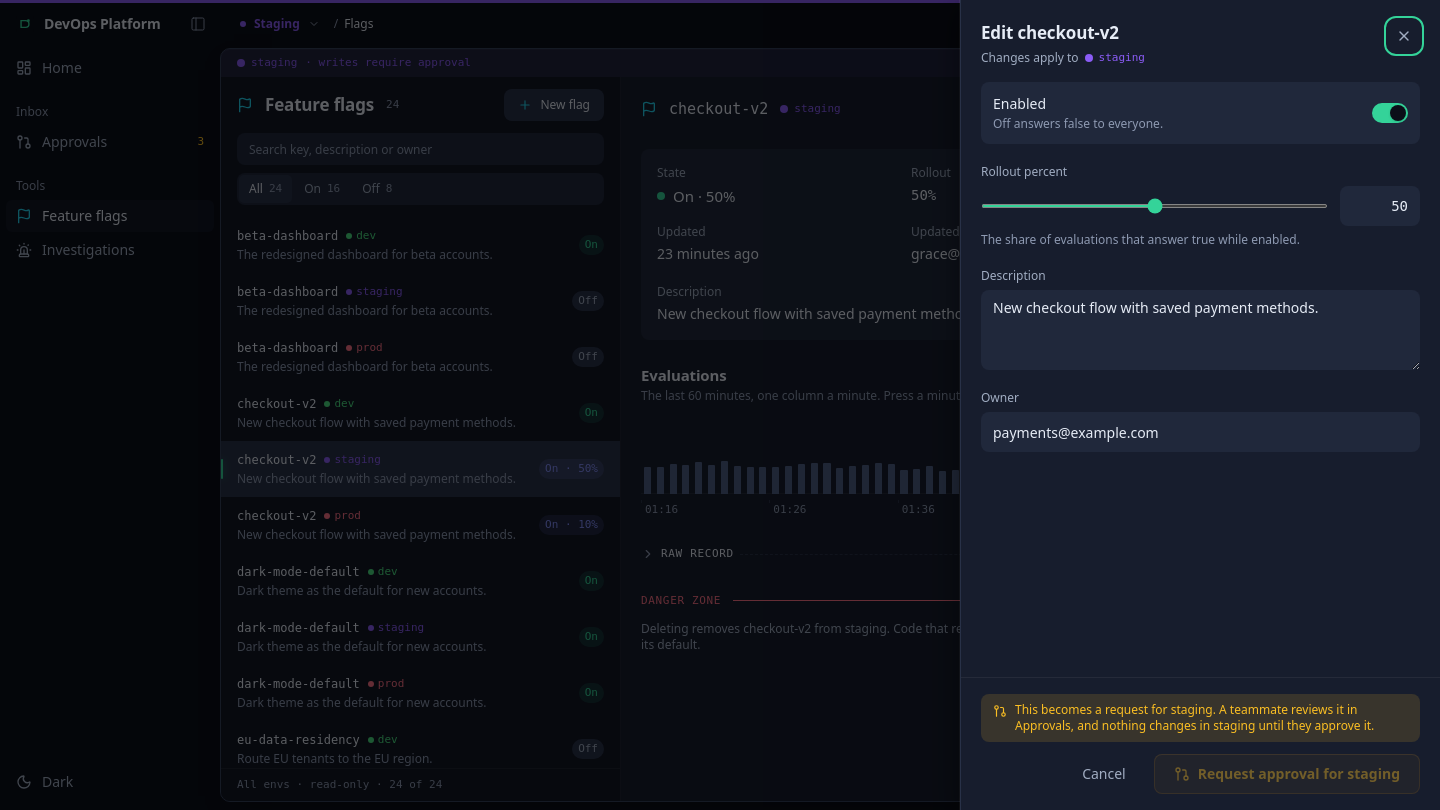
Scenario: the flag sheet › refuses a rollout outside 0 to 100 without asking the API
Step 1. Replace the text in the field labelled "Rollout percent" with "150" → [1380, 206], box [1340,186,1420,226]
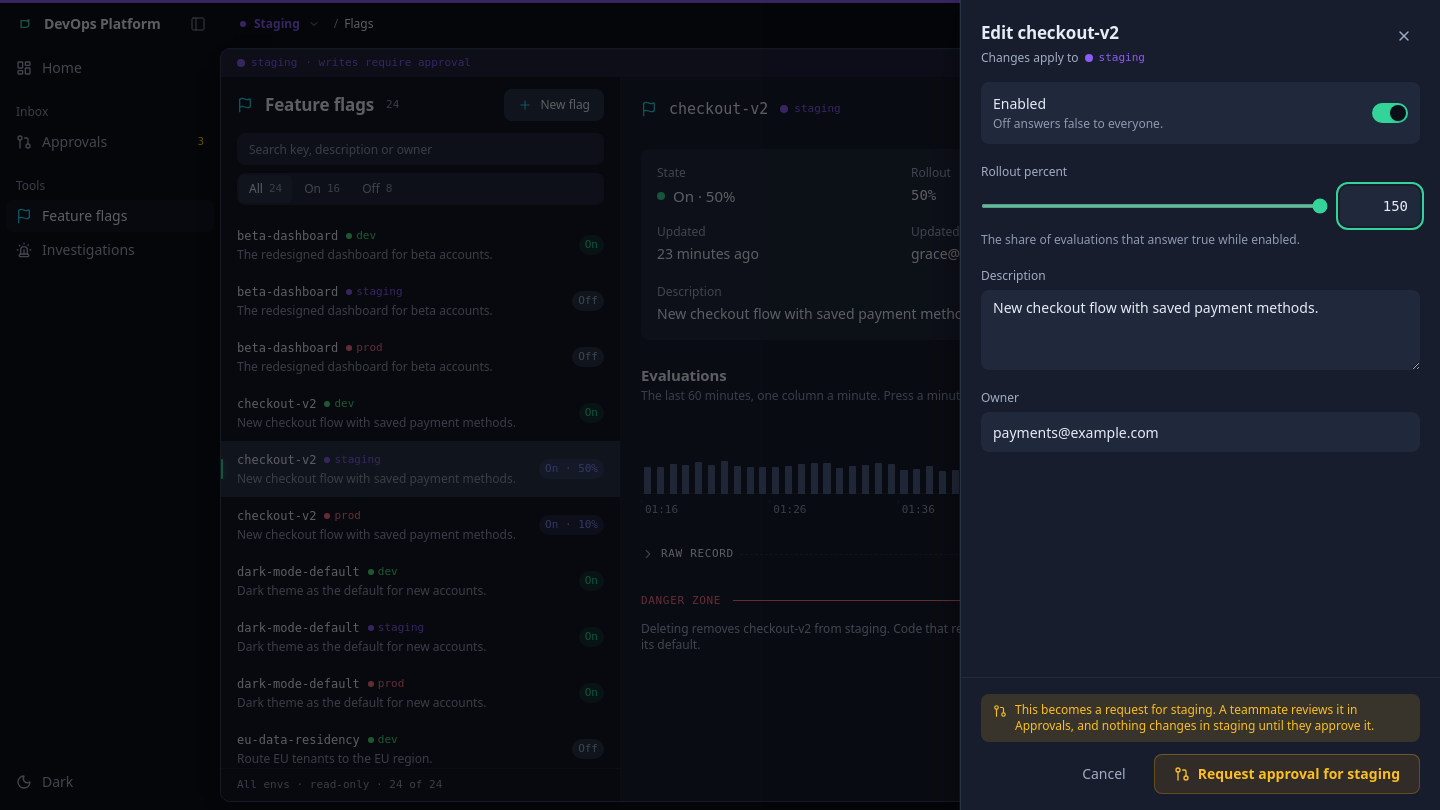
Step 2. Click the button "Request approval for staging" → [1287, 774], box [1154,754,1420,794]
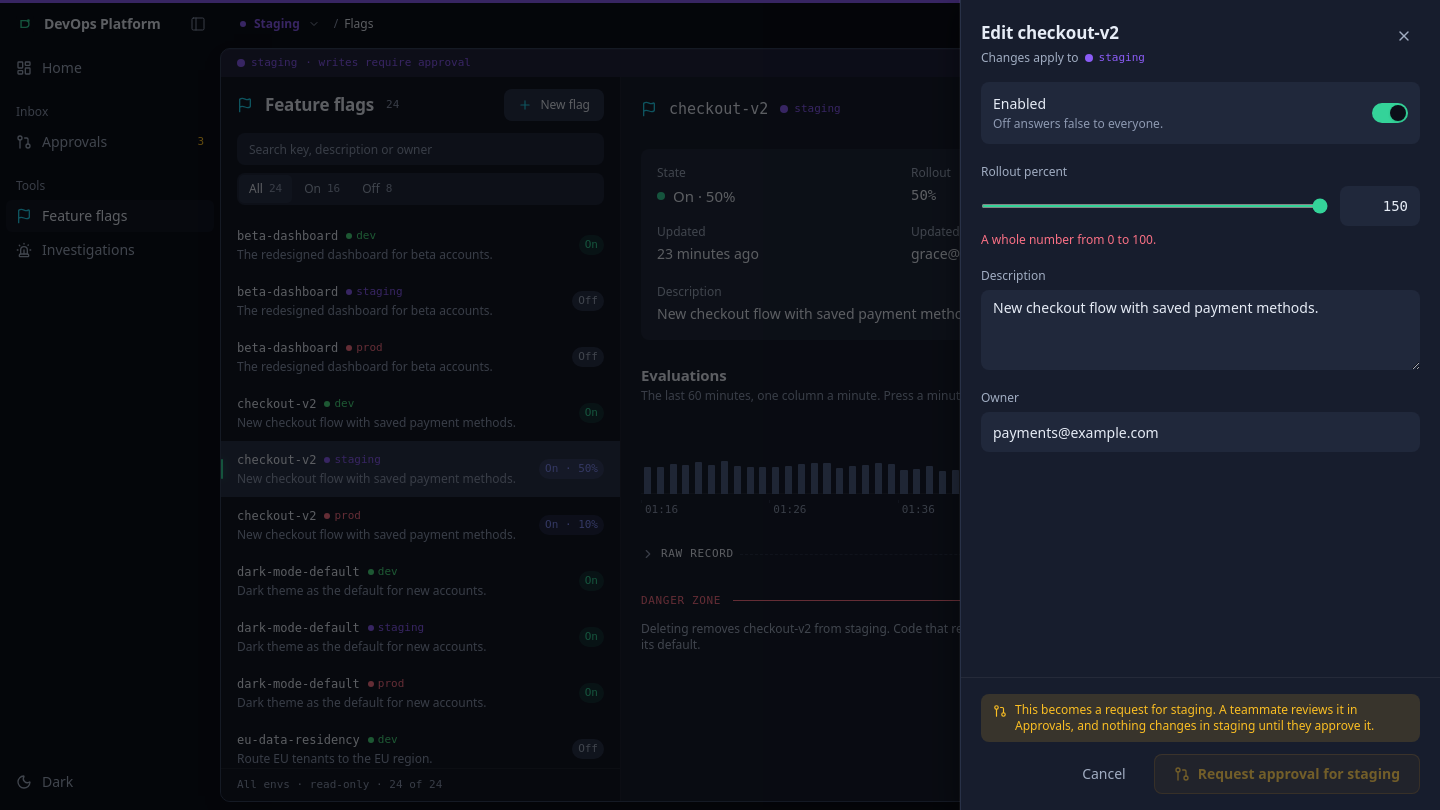
Expected: the text "A whole number from 0 to 100." is shown, [981,231,1156,248]
